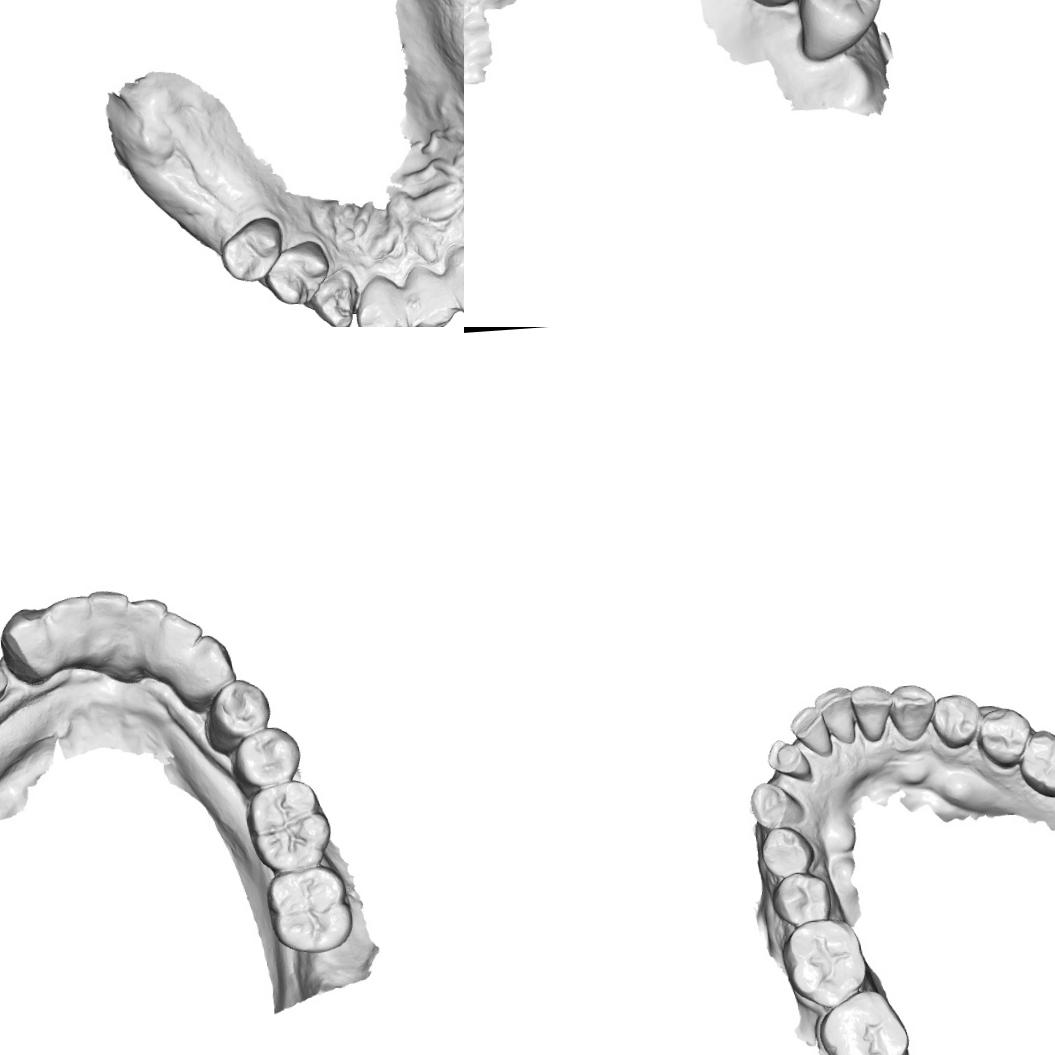canine: (0, 604, 55, 682), (181, 628, 239, 697), (307, 265, 363, 327), (745, 777, 810, 830), (886, 679, 936, 743)
implant_minus: (0, 659, 15, 703)
incisor: (397, 255, 459, 327), (44, 592, 95, 658), (351, 269, 407, 327), (848, 679, 896, 745), (151, 606, 207, 662), (810, 684, 859, 748), (784, 702, 834, 758), (121, 595, 171, 650), (86, 586, 132, 644), (764, 734, 815, 782), (439, 248, 464, 322)
molar: (241, 778, 332, 876), (783, 914, 872, 1009), (264, 864, 355, 956), (813, 982, 913, 1055), (795, 0, 885, 37), (1016, 718, 1055, 798)
premolar: (216, 214, 288, 286), (262, 238, 333, 309), (227, 723, 302, 790), (205, 673, 274, 741), (768, 868, 836, 929), (974, 703, 1032, 772), (926, 689, 982, 751), (756, 826, 818, 878)
